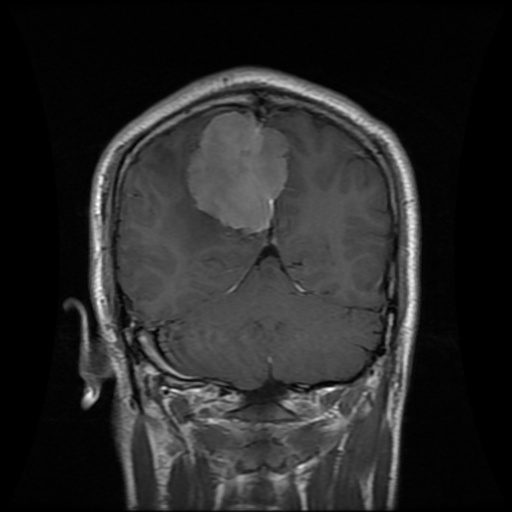meningioma: (188, 110, 288, 231)
